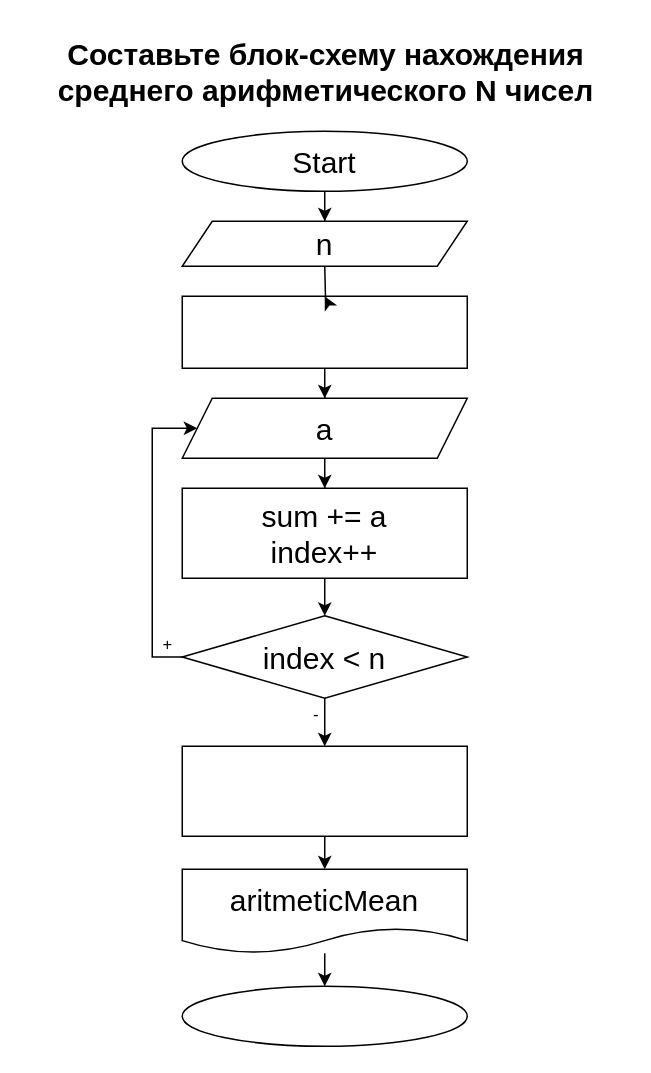
This 651x1073 diagram has some shape labels left out. The shapes that lost their labels are listed below. From the top down, each one's centre as x and y in pixels, then its label:
point 324,331: sum = 0 index = 0
point 324,790: aritmeticMean = sum / n
point 324,1015: End
